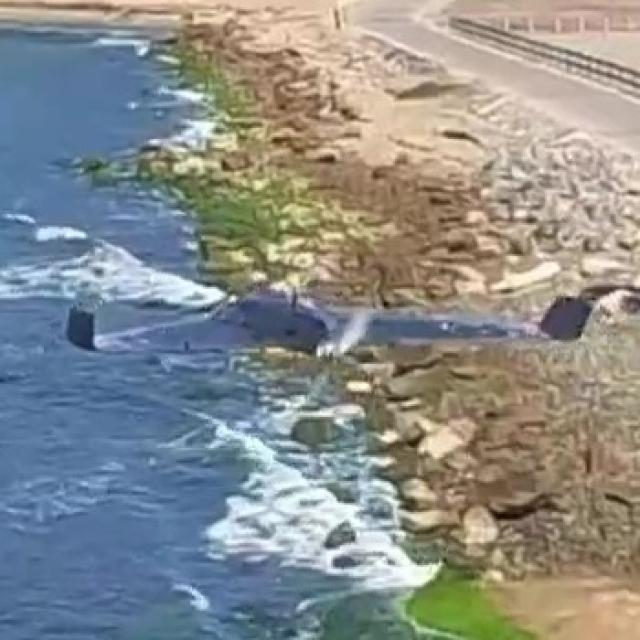iha: (55, 308, 586, 333)
